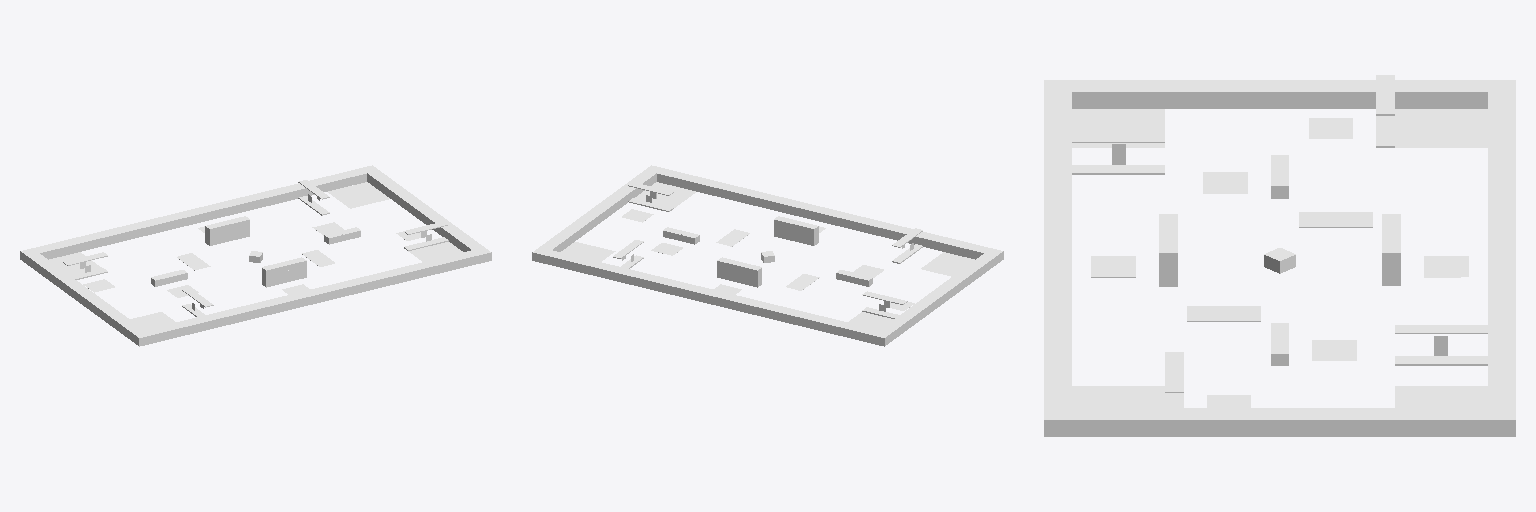
--- Facts derived from the render (not from the file) ---
The picture shows the robot from 3 angles, left to right: view 1: azimuth 30°, elevation 25°; view 2: azimuth 150°, elevation 25°; view 3: azimuth 270°, elevation 25°; orthographic projection.
Model tag_rmua2022 with 25 links and 24 joints (24 fixed), rooted at ICRA_MAP, posed all joints at 0.
Links seen in each view (by area): view 1: ICRA_MAP; view 2: ICRA_MAP; view 3: ICRA_MAP.
Boxes of the visible links, x1,y1,x2,y2 form: ICRA_MAP: (20,165,491,346); ICRA_MAP: (532,165,1003,346); ICRA_MAP: (1044,75,1515,436).
Bounding box of the posed robot: 8.68 × 5.08 × 0.4015 m (x, y, z).
Meshes: 25 distinct files referenced, 25 mesh visuals loaded (25 Collada DAE).

The robot description file, URDF, robot "tag_rmua2022":
<?xml version="1.0" encoding="utf-8"?>
<!-- This URDF was automatically created by SolidWorks to URDF Exporter! Originally created by Stephen Brawner ([email redacted]) 
     Commit Version: 1.6.0-1-g15f4949  Build Version: 1.6.7594.29634
     For more information, please see http://wiki.ros.org/sw_urdf_exporter -->
<robot name="tag_rmua2022">
  <link name="ICRA_MAP">
    <inertial>
      <origin xyz="4.04 2.24 0.10196" rpy="0 0 0" />
      <mass value="2565.9" />
      <inertia ixx="7814.7" ixy="-0.060923" ixz="-1.3964E-13" iyy="18727" iyz="1.0182E-13" izz="26518" />
    </inertial>
    <visual>
      <origin xyz="0 0 0" rpy="0 0 0" />
      <geometry>
        <mesh filename="package://tag_rmua2022/meshes/icra_map_simplify_visual.dae" />
      </geometry>
      <material name="">
        <color rgba="1 1 1 1" />
      </material>
    </visual>
    <collision>
      <origin xyz="0 0 0" rpy="0 0 0" />
      <geometry>
        <mesh filename="package://tag_rmua2022/meshes/icra_map_simplify.stl" />
      </geometry>
    </collision>
  </link>
  <link name="A">
    <inertial>
      <origin xyz="0 0 0.00025395" rpy="0 0 0" />
      <mass value="0.011427" />
      <inertia ixx="2.1355E-05" ixy="4.9114E-22" ixz="-8.5998E-24" iyy="2.1355E-05" iyz="6.6032E-25" izz="4.2709E-05" />
    </inertial>
    <visual>
      <origin xyz="0 0 0" rpy="0 0 0" />
      <geometry>
        <mesh filename="package://tag_rmua2022/meshes/tagA.dae" />
      </geometry>
      <material name="">
        <color rgba="1 1 1 1" />
      </material>
    </visual>
    <collision>
      <origin xyz="0 0 0" rpy="0 0 0" />
      <geometry>
        <mesh filename="package://tag_rmua2022/meshes/tagA.dae" />
      </geometry>
    </collision>
  </link>
  <joint name="A" type="fixed">
    <origin xyz="0.499999999999998 3.4801 0.1995" rpy="1.5707963267949 0 3.14159265358979" />
    <parent link="ICRA_MAP" />
    <child link="A" />
    <axis xyz="0 0 0" />
  </joint>
  <link name="B">
    <inertial>
      <origin xyz="0 2.7756E-17 0.00029072" rpy="0 0 0" />
      <mass value="0.013017" />
      <inertia ixx="2.3699E-05" ixy="-2.4234E-22" ixz="-6.1619E-25" iyy="2.3699E-05" iyz="7.7776E-24" izz="4.7397E-05" />
    </inertial>
    <visual>
      <origin xyz="0 0 0" rpy="0 0 0" />
      <geometry>
        <mesh filename="package://tag_rmua2022/meshes/tagB.dae" />
      </geometry>
      <material name="">
        <color rgba="1 1 1 1" />
      </material>
    </visual>
    <collision>
      <origin xyz="0 0 0" rpy="0 0 0" />
      <geometry>
        <mesh filename="package://tag_rmua2022/meshes/tagB.dae" />
      </geometry>
    </collision>
  </link>
  <joint name="B" type="fixed">
    <origin xyz="0.499999999999998 3.2799 0.1995" rpy="1.5707963267949 0 0" />
    <parent link="ICRA_MAP" />
    <child link="B" />
    <axis xyz="0 0 0" />
  </joint>
  <link name="C">
    <inertial>
      <origin xyz="0 0 0.000290724435700884" rpy="0 0 0" />
      <mass value="0.0130170384899996" />
      <inertia ixx="2.36988293384775E-05" ixy="1.02971061565781E-21" ixz="-4.1448783951049E-24" iyy="2.36988293384775E-05" iyz="7.78254600709865E-24" izz="4.73969120919498E-05" />
    </inertial>
    <visual>
      <origin xyz="0 0 0" rpy="0 0 0" />
      <geometry>
        <mesh filename="package://tag_rmua2022/meshes/tagC.dae" />
      </geometry>
      <material name="">
        <color rgba="1 1 1 1" />
      </material>
    </visual>
    <collision>
      <origin xyz="0 0 0" rpy="0 0 0" />
      <geometry>
        <mesh filename="package://tag_rmua2022/meshes/tagC.dae" />
      </geometry>
    </collision>
  </link>
  <joint name="C" type="fixed">
    <origin xyz="1.4999 0.499999999999999 0.1995" rpy="1.5707963267949 0 -1.5707963267949" />
    <parent link="ICRA_MAP" />
    <child link="C" />
    <axis xyz="0 0 0" />
  </joint>
  <link name="D">
    <inertial>
      <origin xyz="0 0 0.000290724435700884" rpy="0 0 0" />
      <mass value="0.0130170384899996" />
      <inertia ixx="2.36988293384775E-05" ixy="1.14383569079598E-21" ixz="1.52807362792813E-24" iyy="2.36988293384775E-05" iyz="6.75786026484854E-24" izz="4.73969120919498E-05" />
    </inertial>
    <visual>
      <origin xyz="0 0 0" rpy="0 0 0" />
      <geometry>
        <mesh filename="package://tag_rmua2022/meshes/tagD.dae" />
      </geometry>
      <material name="">
        <color rgba="1 1 1 1" />
      </material>
    </visual>
    <collision>
      <origin xyz="0 0 0" rpy="0 0 0" />
      <geometry>
        <mesh filename="package://tag_rmua2022/meshes/tagD.dae" />
      </geometry>
    </collision>
  </link>
  <joint name="D" type="fixed">
    <origin xyz="1.7001 0.499999999999999 0.1995" rpy="1.5707963267949 0 1.5707963267949" />
    <parent link="ICRA_MAP" />
    <child link="D" />
    <axis xyz="0 0 0" />
  </joint>
  <link name="E">
    <inertial>
      <origin xyz="0 0 0.000290724435700662" rpy="0 0 0" />
      <mass value="0.0130170384899986" />
      <inertia ixx="2.3698829338474E-05" ixy="-3.94203260669802E-22" ixz="-3.42617262547692E-24" iyy="2.36988293384741E-05" iyz="7.01630395835867E-24" izz="4.73969120919429E-05" />
    </inertial>
    <visual>
      <origin xyz="0 0 0" rpy="0 0 0" />
      <geometry>
        <mesh filename="package://tag_rmua2022/meshes/tagE.dae" />
      </geometry>
      <material name="">
        <color rgba="1 1 1 1" />
      </material>
    </visual>
    <collision>
      <origin xyz="0 0 0" rpy="0 0 0" />
      <geometry>
        <mesh filename="package://tag_rmua2022/meshes/tagE.dae" />
      </geometry>
    </collision>
  </link>
  <joint name="E" type="fixed">
    <origin xyz="7.58 0.999899999999999 0.1995" rpy="1.5707963267949 0 0" />
    <parent link="ICRA_MAP" />
    <child link="E" />
    <axis xyz="0 0 0" />
  </joint>
  <link name="F">
    <inertial>
      <origin xyz="0 0 0.000290724435700662" rpy="0 0 0" />
      <mass value="0.0130170384899986" />
      <inertia ixx="2.3698829338474E-05" ixy="-2.61725115690606E-22" ixz="-2.53730954821308E-24" iyy="2.36988293384741E-05" iyz="7.14586047532986E-24" izz="4.73969120919429E-05" />
    </inertial>
    <visual>
      <origin xyz="0 0 0" rpy="0 0 0" />
      <geometry>
        <mesh filename="package://tag_rmua2022/meshes/tagF.dae" />
      </geometry>
      <material name="">
        <color rgba="1 1 1 1" />
      </material>
    </visual>
    <collision>
      <origin xyz="0 0 0" rpy="0 0 0" />
      <geometry>
        <mesh filename="package://tag_rmua2022/meshes/tagF.dae" />
      </geometry>
    </collision>
  </link>
  <joint name="F" type="fixed">
    <origin xyz="7.58 1.2001 0.1995" rpy="1.5707963267949 0 3.14159265358979" />
    <parent link="ICRA_MAP" />
    <child link="F" />
    <axis xyz="0 0 0" />
  </joint>
  <link name="G">
    <inertial>
      <origin xyz="0 0 0.000290724435700884" rpy="0 0 0" />
      <mass value="0.0130170384899996" />
      <inertia ixx="2.36988293384775E-05" ixy="1.05013163703045E-21" ixz="8.88353265922435E-25" iyy="2.36988293384775E-05" iyz="7.63816360791715E-24" izz="4.73969120919498E-05" />
    </inertial>
    <visual>
      <origin xyz="0 0 0" rpy="0 0 0" />
      <geometry>
        <mesh filename="package://tag_rmua2022/meshes/tagG.dae" />
      </geometry>
      <material name="">
        <color rgba="1 1 1 1" />
      </material>
    </visual>
    <collision>
      <origin xyz="0 0 0" rpy="0 0 0" />
      <geometry>
        <mesh filename="package://tag_rmua2022/meshes/tagG.dae" />
      </geometry>
    </collision>
  </link>
  <joint name="G" type="fixed">
    <origin xyz="6.5801 3.98 0.1995" rpy="1.5707963267949 0 1.5707963267949" />
    <parent link="ICRA_MAP" />
    <child link="G" />
    <axis xyz="0 0 0" />
  </joint>
  <link name="H">
    <inertial>
      <origin xyz="0 0 0.000290724435700884" rpy="0 0 0" />
      <mass value="0.0130170384899996" />
      <inertia ixx="2.36988293384775E-05" ixy="1.13414216799263E-21" ixz="3.36376410463395E-24" iyy="2.36988293384775E-05" iyz="2.80643963380698E-24" izz="4.73969120919498E-05" />
    </inertial>
    <visual>
      <origin xyz="0 0 0" rpy="0 0 0" />
      <geometry>
        <mesh filename="package://tag_rmua2022/meshes/tagH.dae" />
      </geometry>
      <material name="">
        <color rgba="1 1 1 1" />
      </material>
    </visual>
    <collision>
      <origin xyz="0 0 0" rpy="0 0 0" />
      <geometry>
        <mesh filename="package://tag_rmua2022/meshes/tagH.dae" />
      </geometry>
    </collision>
  </link>
  <joint name="H" type="fixed">
    <origin xyz="6.3799 3.98 0.1995" rpy="1.5707963267949 0 -1.5707963267949" />
    <parent link="ICRA_MAP" />
    <child link="H" />
    <axis xyz="0 0 0" />
  </joint>
  <link name="I">
    <inertial>
      <origin xyz="-2.76717009097909E-18 0 0.000290724435700884" rpy="0 0 0" />
      <mass value="0.0130170384899986" />
      <inertia ixx="2.36988293384739E-05" ixy="9.56427583264438E-22" ixz="-1.51090519930037E-23" iyy="2.36988293384739E-05" iyz="6.02238666902838E-24" izz="4.73969120919427E-05" />
    </inertial>
    <visual>
      <origin xyz="0 0 0" rpy="0 0 0" />
      <geometry>
        <mesh filename="package://tag_rmua2022/meshes/tagI.dae" />
      </geometry>
      <material name="">
        <color rgba="1 1 1 1" />
      </material>
    </visual>
    <collision>
      <origin xyz="0 0 0" rpy="0 0 0" />
      <geometry>
        <mesh filename="package://tag_rmua2022/meshes/tagI.dae" />
      </geometry>
    </collision>
  </link>
  <joint name="I" type="fixed">
    <origin xyz="4.04 3.5455 0.1995" rpy="1.5707963267949 0 3.14159265358979" />
    <parent link="ICRA_MAP" />
    <child link="I" />
    <axis xyz="0 0 0" />
  </joint>
  <link name="J">
    <inertial>
      <origin xyz="1.33717113754754E-19 0 0.000290724435700773" rpy="0 0 0" />
      <mass value="0.0130170384899998" />
      <inertia ixx="2.36988293384762E-05" ixy="-7.78712998536249E-22" ixz="-4.89438243594351E-24" iyy="2.36988293384762E-05" iyz="3.95937288253699E-24" izz="4.73969120919474E-05" />
    </inertial>
    <visual>
      <origin xyz="0 0 0" rpy="0 0 0" />
      <geometry>
        <mesh filename="package://tag_rmua2022/meshes/tagJ.dae" />
      </geometry>
      <material name="">
        <color rgba="1 1 1 1" />
      </material>
    </visual>
    <collision>
      <origin xyz="0 0 0" rpy="0 0 0" />
      <geometry>
        <mesh filename="package://tag_rmua2022/meshes/tagJ.dae" />
      </geometry>
    </collision>
  </link>
  <joint name="J" type="fixed">
    <origin xyz="4.04 3.445 0.4" rpy="0 0 3.14159265358979" />
    <parent link="ICRA_MAP" />
    <child link="J" />
    <axis xyz="0 0 0" />
  </joint>
  <link name="K">
    <inertial>
      <origin xyz="4.22168699137817E-18 0 0.000290724435700662" rpy="0 0 0" />
      <mass value="0.0130170384899986" />
      <inertia ixx="2.36988293384739E-05" ixy="1.31185675272082E-21" ixz="7.17008981766748E-24" iyy="2.36988293384739E-05" iyz="2.65071644881191E-24" izz="4.73969120919427E-05" />
    </inertial>
    <visual>
      <origin xyz="0 0 0" rpy="0 0 0" />
      <geometry>
        <mesh filename="package://tag_rmua2022/meshes/tagK.dae" />
      </geometry>
      <material name="">
        <color rgba="1 1 1 1" />
      </material>
    </visual>
    <collision>
      <origin xyz="0 0 0" rpy="0 0 0" />
      <geometry>
        <mesh filename="package://tag_rmua2022/meshes/tagK.dae" />
      </geometry>
    </collision>
  </link>
  <joint name="K" type="fixed">
    <origin xyz="4.04 3.3445 0.1995" rpy="1.5707963267949 0 0" />
    <parent link="ICRA_MAP" />
    <child link="K" />
    <axis xyz="0 0 0" />
  </joint>
  <link name="L">
    <inertial>
      <origin xyz="0 0 0.000290724435700732" rpy="0 0 0" />
      <mass value="0.0130170384900001" />
      <inertia ixx="2.36988293384767E-05" ixy="-9.56427583264438E-22" ixz="3.62964398220609E-24" iyy="2.36988293384768E-05" iyz="6.87497193296163E-24" izz="4.73969120919483E-05" />
    </inertial>
    <visual>
      <origin xyz="0 0 0" rpy="0 0 0" />
      <geometry>
        <mesh filename="package://tag_rmua2022/meshes/tagL.dae" />
      </geometry>
      <material name="">
        <color rgba="1 1 1 1" />
      </material>
    </visual>
    <collision>
      <origin xyz="0 0 0" rpy="0 0 0" />
      <geometry>
        <mesh filename="package://tag_rmua2022/meshes/tagL.dae" />
      </geometry>
    </collision>
  </link>
  <joint name="L" type="fixed">
    <origin xyz="1.9 2.3401 0.0745" rpy="1.5707963267949 0 3.14159265358979" />
    <parent link="ICRA_MAP" />
    <child link="L" />
    <axis xyz="0 0 0" />
  </joint>
  <link name="M">
    <inertial>
      <origin xyz="2.38978679799578E-18 0 0.000290724435700718" rpy="0 0 0" />
      <mass value="0.0130170384899998" />
      <inertia ixx="2.36988293384764E-05" ixy="1.09183397992381E-21" ixz="5.67207774028461E-24" iyy="2.36988293384763E-05" iyz="-3.79019329672935E-24" izz="4.73969120919476E-05" />
    </inertial>
    <visual>
      <origin xyz="0 0 0" rpy="0 0 0" />
      <geometry>
        <mesh filename="package://tag_rmua2022/meshes/tagM.dae" />
      </geometry>
      <material name="">
        <color rgba="1 1 1 1" />
      </material>
    </visual>
    <collision>
      <origin xyz="0 0 0" rpy="0 0 0" />
      <geometry>
        <mesh filename="package://tag_rmua2022/meshes/tagM.dae" />
      </geometry>
    </collision>
  </link>
  <joint name="M" type="fixed">
    <origin xyz="1.9 2.24 0.1496" rpy="0 0 -1.5707963267949" />
    <parent link="ICRA_MAP" />
    <child link="M" />
    <axis xyz="0 0 0" />
  </joint>
  <link name="N">
    <inertial>
      <origin xyz="0 0 0.000290724435700718" rpy="0 0 0" />
      <mass value="0.0130170384900001" />
      <inertia ixx="2.36988293384767E-05" ixy="-9.85508151674506E-22" ixz="1.92829292711243E-24" iyy="2.36988293384768E-05" iyz="7.6094633854526E-24" izz="4.73969120919483E-05" />
    </inertial>
    <visual>
      <origin xyz="0 0 0" rpy="0 0 0" />
      <geometry>
        <mesh filename="package://tag_rmua2022/meshes/tagN.dae" />
      </geometry>
      <material name="">
        <color rgba="1 1 1 1" />
      </material>
    </visual>
    <collision>
      <origin xyz="0 0 0" rpy="0 0 0" />
      <geometry>
        <mesh filename="package://tag_rmua2022/meshes/tagN.dae" />
      </geometry>
    </collision>
  </link>
  <joint name="N" type="fixed">
    <origin xyz="1.9 2.1399 0.0745" rpy="1.5707963267949 0 0" />
    <parent link="ICRA_MAP" />
    <child link="N" />
    <axis xyz="0 0 0" />
  </joint>
  <link name="O">
    <inertial>
      <origin xyz="2.76044149431494E-18 2.77555756156289E-17 0.000290724435700662" rpy="0 0 0" />
      <mass value="0.0130170384899986" />
      <inertia ixx="2.36988293384739E-05" ixy="1.36252156523969E-21" ixz="7.8729820048179E-24" iyy="2.36988293384739E-05" iyz="2.40646793516863E-24" izz="4.73969120919427E-05" />
    </inertial>
    <visual>
      <origin xyz="0 0 0" rpy="0 0 0" />
      <geometry>
        <mesh filename="package://tag_rmua2022/meshes/tagO.dae" />
      </geometry>
      <material name="">
        <color rgba="1 1 1 1" />
      </material>
    </visual>
    <collision>
      <origin xyz="0 0 0" rpy="0 0 0" />
      <geometry>
        <mesh filename="package://tag_rmua2022/meshes/tagO.dae" />
      </geometry>
    </collision>
  </link>
  <joint name="O" type="fixed">
    <origin xyz="4.04 0.934499999999999 0.1995" rpy="1.5707963267949 0 0" />
    <parent link="ICRA_MAP" />
    <child link="O" />
    <axis xyz="0 0 0" />
  </joint>
  <link name="P">
    <inertial>
      <origin xyz="7.24694831355622E-19 0 0.000290724435700773" rpy="0 0 0" />
      <mass value="0.0130170384899998" />
      <inertia ixx="2.36988293384762E-05" ixy="-7.24817011749591E-22" ixz="-6.20803515309942E-24" iyy="2.36988293384762E-05" iyz="3.81679700518771E-24" izz="4.73969120919473E-05" />
    </inertial>
    <visual>
      <origin xyz="0 0 0" rpy="0 0 0" />
      <geometry>
        <mesh filename="package://tag_rmua2022/meshes/tagP.dae" />
      </geometry>
      <material name="">
        <color rgba="1 1 1 1" />
      </material>
    </visual>
    <collision>
      <origin xyz="0 0 0" rpy="0 0 0" />
      <geometry>
        <mesh filename="package://tag_rmua2022/meshes/tagP.dae" />
      </geometry>
    </collision>
  </link>
  <joint name="P" type="fixed">
    <origin xyz="4.04 1.035 0.4" rpy="0 0 0" />
    <parent link="ICRA_MAP" />
    <child link="P" />
    <axis xyz="0 0 0" />
  </joint>
  <link name="Q">
    <inertial>
      <origin xyz="2.28353426161166E-18 0 0.000290724435700662" rpy="0 0 0" />
      <mass value="0.0130170384899986" />
      <inertia ixx="2.36988293384739E-05" ixy="1.24723326736511E-21" ixz="1.07091658048558E-23" iyy="2.36988293384739E-05" iyz="2.00136942629053E-24" izz="4.73969120919427E-05" />
    </inertial>
    <visual>
      <origin xyz="0 0 0" rpy="0 0 0" />
      <geometry>
        <mesh filename="package://tag_rmua2022/meshes/tagQ.dae" />
      </geometry>
      <material name="">
        <color rgba="1 1 1 1" />
      </material>
    </visual>
    <collision>
      <origin xyz="0 0 0" rpy="0 0 0" />
      <geometry>
        <mesh filename="package://tag_rmua2022/meshes/tagQ.dae" />
      </geometry>
    </collision>
  </link>
  <joint name="Q" type="fixed">
    <origin xyz="4.04 1.1355 0.1995" rpy="1.5707963267949 0 3.14159265358979" />
    <parent link="ICRA_MAP" />
    <child link="Q" />
    <axis xyz="0 0 0" />
  </joint>
  <link name="R">
    <inertial>
      <origin xyz="0 0 0.000290724435700718" rpy="0 0 0" />
      <mass value="0.0130170384900001" />
      <inertia ixx="2.36988293384767E-05" ixy="-1.00063004724774E-21" ixz="1.45794849908574E-24" iyy="2.36988293384768E-05" iyz="7.56674985811032E-24" izz="4.73969120919483E-05" />
    </inertial>
    <visual>
      <origin xyz="0 0 0" rpy="0 0 0" />
      <geometry>
        <mesh filename="package://tag_rmua2022/meshes/tagR.dae" />
      </geometry>
      <material name="">
        <color rgba="1 1 1 1" />
      </material>
    </visual>
    <collision>
      <origin xyz="0 0 0" rpy="0 0 0" />
      <geometry>
        <mesh filename="package://tag_rmua2022/meshes/tagR.dae" />
      </geometry>
    </collision>
  </link>
  <joint name="R" type="fixed">
    <origin xyz="6.18 2.1399 0.0745" rpy="1.5707963267949 0 0" />
    <parent link="ICRA_MAP" />
    <child link="R" />
    <axis xyz="0 0 0" />
  </joint>
  <link name="S">
    <inertial>
      <origin xyz="-4.30079268034722E-19 0 0.000290724435700718" rpy="0 0 0" />
      <mass value="0.0130170384899998" />
      <inertia ixx="2.36988293384764E-05" ixy="1.18907213054498E-21" ixz="-6.91196577886843E-24" iyy="2.36988293384763E-05" iyz="3.56622572953028E-24" izz="4.73969120919476E-05" />
    </inertial>
    <visual>
      <origin xyz="0 0 0" rpy="0 0 0" />
      <geometry>
        <mesh filename="package://tag_rmua2022/meshes/tagS.dae" />
      </geometry>
      <material name="">
        <color rgba="1 1 1 1" />
      </material>
    </visual>
    <collision>
      <origin xyz="0 0 0" rpy="0 0 0" />
      <geometry>
        <mesh filename="package://tag_rmua2022/meshes/tagS.dae" />
      </geometry>
    </collision>
  </link>
  <joint name="S" type="fixed">
    <origin xyz="6.18 2.24 0.1496" rpy="0 0 -1.5707963267949" />
    <parent link="ICRA_MAP" />
    <child link="S" />
    <axis xyz="0 0 0" />
  </joint>
  <link name="T">
    <inertial>
      <origin xyz="0 0 0.000290724435700718" rpy="0 0 0" />
      <mass value="0.0130170384900001" />
      <inertia ixx="2.36988293384767E-05" ixy="-1.01458872008457E-21" ixz="1.38526587586178E-24" iyy="2.36988293384768E-05" iyz="6.09101416394884E-24" izz="4.73969120919483E-05" />
    </inertial>
    <visual>
      <origin xyz="0 0 0" rpy="0 0 0" />
      <geometry>
        <mesh filename="package://tag_rmua2022/meshes/tagT.dae" />
      </geometry>
      <material name="">
        <color rgba="1 1 1 1" />
      </material>
    </visual>
    <collision>
      <origin xyz="0 0 0" rpy="0 0 0" />
      <geometry>
        <mesh filename="package://tag_rmua2022/meshes/tagT.dae" />
      </geometry>
    </collision>
  </link>
  <joint name="T" type="fixed">
    <origin xyz="6.18 2.3401 0.0745" rpy="1.5707963267949 0 3.14159265358979" />
    <parent link="ICRA_MAP" />
    <child link="T" />
    <axis xyz="0 0 0" />
  </joint>
  <link name="U">
    <inertial>
      <origin xyz="8.32667268468867E-17 -1.2490009027033E-16 0.000290724435700745" rpy="0 0 0" />
      <mass value="0.0130170384899998" />
      <inertia ixx="2.36988293384762E-05" ixy="2.08989363365612E-20" ixz="0" iyy="2.36988293384761E-05" iyz="1.56701842022387E-21" izz="4.73969120919471E-05" />
    </inertial>
    <visual>
      <origin xyz="0 0 0" rpy="0 0 0" />
      <geometry>
        <mesh filename="package://tag_rmua2022/meshes/tagU.dae" />
      </geometry>
      <material name="">
        <color rgba="1 1 1 1" />
      </material>
    </visual>
    <collision>
      <origin xyz="0 0 0" rpy="0 0 0" />
      <geometry>
        <mesh filename="package://tag_rmua2022/meshes/tagU.dae" />
      </geometry>
    </collision>
  </link>
  <joint name="U" type="fixed">
    <origin xyz="4.12845905832644 2.32845905832644 0.0745" rpy="1.5707963267949 0 2.35619449019234" />
    <parent link="ICRA_MAP" />
    <child link="U" />
    <axis xyz="0 0 0" />
  </joint>
  <link name="V">
    <inertial>
      <origin xyz="6.93889390390723E-17 -1.11022302462516E-16 0.000290448430332657" rpy="0 0 0" />
      <mass value="0.0130031962600935" />
      <inertia ixx="2.36986759191553E-05" ixy="2.05232262523621E-20" ixz="0" iyy="2.36986759191552E-05" iyz="4.99073775913667E-22" izz="4.7396607139412E-05" />
    </inertial>
    <visual>
      <origin xyz="0 0 0" rpy="0 0 0" />
      <geometry>
        <mesh filename="package://tag_rmua2022/meshes/tagV.dae" />
      </geometry>
      <material name="">
        <color rgba="1 1 1 1" />
      </material>
    </visual>
    <collision>
      <origin xyz="0 0 0" rpy="0 0 0" />
      <geometry>
        <mesh filename="package://tag_rmua2022/meshes/tagV.dae" />
      </geometry>
    </collision>
  </link>
  <joint name="V" type="fixed">
    <origin xyz="3.95154094167356 2.32845905832644 0.0745" rpy="1.5707963267949 0 -2.35619449019234" />
    <parent link="ICRA_MAP" />
    <child link="V" />
    <axis xyz="0 0 0" />
  </joint>
  <link name="W">
    <inertial>
      <origin xyz="8.32667268468867E-17 -1.2490009027033E-16 0.000290724435700745" rpy="0 0 0" />
      <mass value="0.0130170384899998" />
      <inertia ixx="2.36988293384762E-05" ixy="2.09487675025572E-20" ixz="-4.2351647362715E-21" iyy="2.36988293384761E-05" iyz="1.68304050298071E-21" izz="4.73969120919471E-05" />
    </inertial>
    <visual>
      <origin xyz="0 0 0" rpy="0 0 0" />
      <geometry>
        <mesh filename="package://tag_rmua2022/meshes/tagW.dae" />
      </geometry>
      <material name="">
        <color rgba="1 1 1 1" />
      </material>
    </visual>
    <collision>
      <origin xyz="0 0 0" rpy="0 0 0" />
      <geometry>
        <mesh filename="package://tag_rmua2022/meshes/tagW.dae" />
      </geometry>
    </collision>
  </link>
  <joint name="W" type="fixed">
    <origin xyz="3.95154094167356 2.15154094167356 0.0745" rpy="1.5707963267949 0 -0.785398163397448" />
    <parent link="ICRA_MAP" />
    <child link="W" />
    <axis xyz="0 0 0" />
  </joint>
  <link name="X">
    <inertial>
      <origin xyz="8.32667268468867E-17 -1.2490009027033E-16 0.000290724435700745" rpy="0 0 0" />
      <mass value="0.0130170384899998" />
      <inertia ixx="2.36988293384762E-05" ixy="2.0574062723862E-20" ixz="0" iyy="2.36988293384761E-05" iyz="5.2246224089501E-22" izz="4.73969120919471E-05" />
    </inertial>
    <visual>
      <origin xyz="0 0 0" rpy="0 0 0" />
      <geometry>
        <mesh filename="package://tag_rmua2022/meshes/tagX.dae" />
      </geometry>
      <material name="">
        <color rgba="1 1 1 1" />
      </material>
    </visual>
    <collision>
      <origin xyz="0 0 0" rpy="0 0 0" />
      <geometry>
        <mesh filename="package://tag_rmua2022/meshes/tagX.dae" />
      </geometry>
    </collision>
  </link>
  <joint name="X" type="fixed">
    <origin xyz="4.12845905832644 2.15154094167356 0.0745" rpy="1.5707963267949 0 0.785398163397448" />
    <parent link="ICRA_MAP" />
    <child link="X" />
    <axis xyz="0 0 0" />
  </joint>
  <gazebo>
    <static>true</static>
  </gazebo>
</robot>
